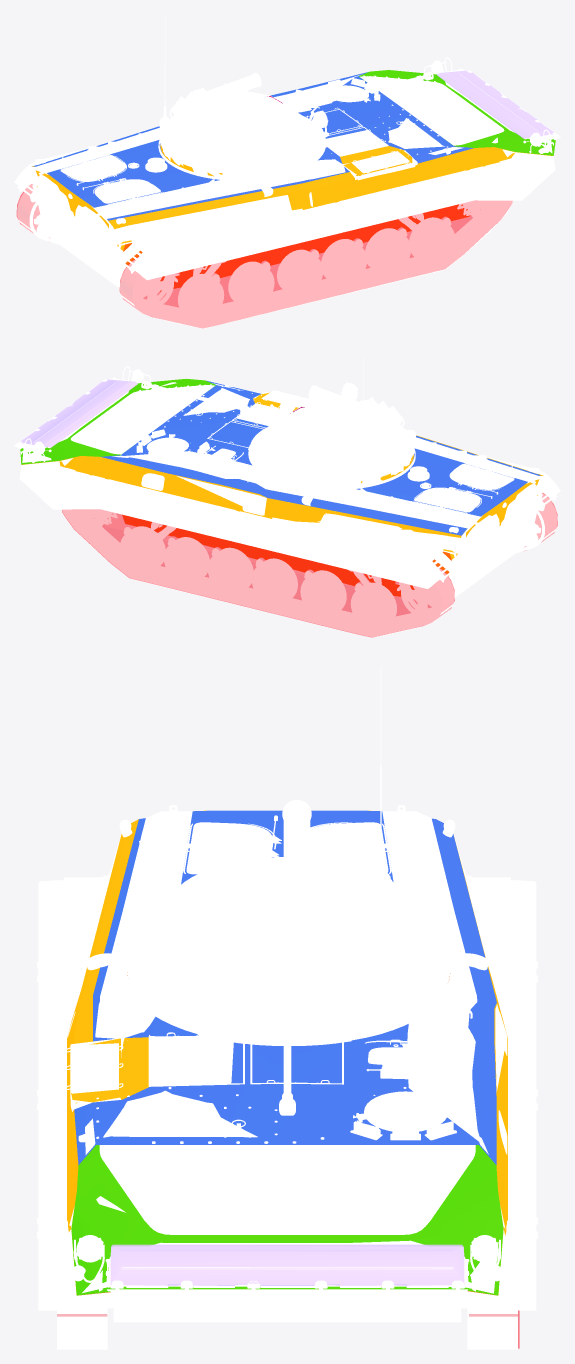
File: BMP2.gltf
3 renders of one model, top to bottom at view 1: azimuth 30°, elevation 25°; view 2: azimuth 150°, elevation 25°; view 3: azimuth 270°, elevation 25°, orthographic. The views are drawn at different scales.
Parts seen in each view (by area): view 1: 40_2, bmp1_track_col_Right2_24, 40_4, bmp2_hull_col, bmp2_hull_col_3, 40_1, bmp2_hull_col_5, BMP1_watershield_col2_148, bmp2_hull_col_4, 40_3, 40_5, 40_6 (+4 smaller); view 2: 40_2, bmp1_track_col_Left2_21, 40_4, bmp2_hull_col, 40, bmp2_hull_col_3, BMP1_watershield_col2_148, bmp2_hull_col_5, bmp2_hull_col_4, 40_5, 40_6, 40_1 (+4 smaller); view 3: 40_2, 40_4, bmp2_hull_col, BMP1_watershield_col2_148, bmp2_hull_col_4, bmp2_hull_col_3, 40_3, 40_6, 40_7, 40_5, 40_1, 40.
Boxes of the visible parts, x1,y1,x2,y2 form: 40_2: (14, 57, 560, 316); bmp1_track_col_Right2_24: (119, 200, 512, 328); 40_4: (159, 14, 329, 177); bmp2_hull_col: (32, 72, 473, 220); bmp2_hull_col_3: (109, 146, 553, 243); 40_1: (120, 166, 512, 328); bmp2_hull_col_5: (123, 204, 469, 291); BMP1_watershield_col2_148: (437, 70, 553, 138); bmp2_hull_col_4: (359, 70, 555, 155); 40_3: (326, 130, 407, 171); 40_5: (175, 72, 261, 115); 40_6: (282, 72, 433, 128); 40_2: (14, 366, 560, 625); bmp1_track_col_Left2_21: (62, 509, 454, 637); 40_4: (249, 357, 416, 487); bmp2_hull_col: (101, 380, 540, 535); 40: (62, 475, 454, 637); bmp2_hull_col_3: (21, 392, 541, 552); BMP1_watershield_col2_148: (20, 379, 137, 447); bmp2_hull_col_5: (122, 514, 451, 596); bmp2_hull_col_4: (20, 378, 215, 464); 40_5: (308, 385, 394, 427); 40_6: (141, 381, 296, 426); 40_1: (516, 493, 557, 553); 40_2: (37, 805, 537, 1322); 40_4: (124, 666, 452, 1040); bmp2_hull_col: (74, 810, 496, 1164); BMP1_watershield_col2_148: (110, 1244, 464, 1285); bmp2_hull_col_4: (71, 1145, 503, 1295); bmp2_hull_col_3: (67, 819, 507, 1294); 40_3: (72, 1037, 233, 1089); 40_6: (202, 956, 322, 1115); 40_7: (178, 854, 264, 909); 40_5: (282, 800, 311, 885); 40_1: (57, 1012, 107, 1349); 40: (467, 1308, 517, 1349).
Size of the model in its own units: 6.8 by 3.53 by 3.27.
